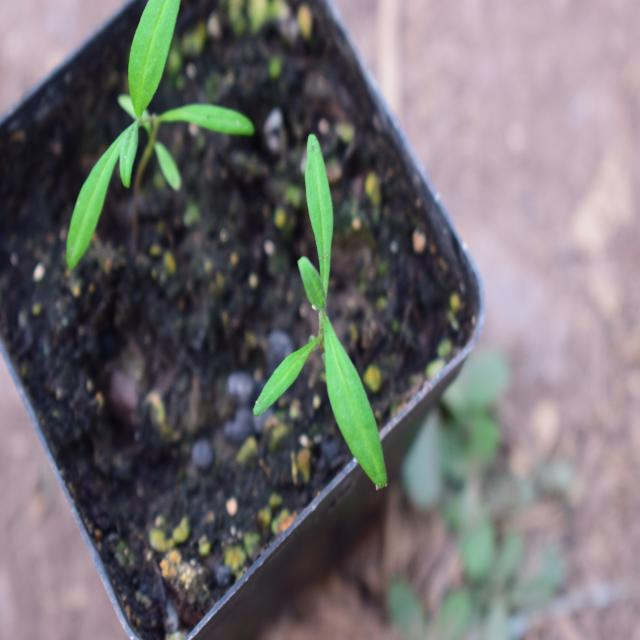white_smart_weed: (263, 140, 419, 531), (48, 2, 266, 275)
